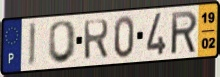0: (113, 13, 136, 60)
4: (145, 11, 168, 58)
I: (28, 20, 38, 68)
O: (47, 19, 79, 66)
R: (170, 9, 199, 57), (82, 18, 110, 62)
